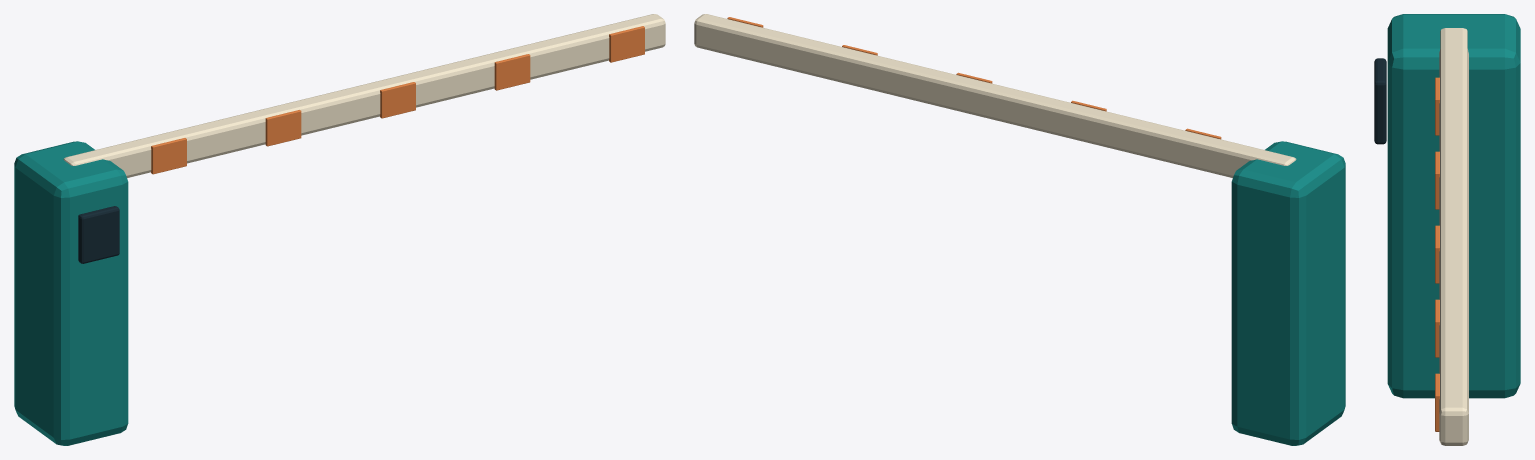
Rendered from Parking_Barrier_HingeOrigin.fbx.
3 renders of one model, left to right at view 1: azimuth 30°, elevation 25°; view 2: azimuth 150°, elevation 25°; view 3: azimuth 270°, elevation 25°, orthographic. The views are drawn at different scales.
Visible parts, largest first — view 1: Parking_Barrier_HingeOrigin_Mesh; view 2: Parking_Barrier_HingeOrigin_Mesh; view 3: Parking_Barrier_HingeOrigin_Mesh.
Boxes of the visible parts, x1,y1,x2,y2 form: Parking_Barrier_HingeOrigin_Mesh: (14, 14, 665, 445); Parking_Barrier_HingeOrigin_Mesh: (694, 14, 1345, 445); Parking_Barrier_HingeOrigin_Mesh: (1374, 14, 1520, 445).
Size of the model in its own units: 2.74 by 1.11 by 0.4175.
Materials: 1 (1 with a texture image).
